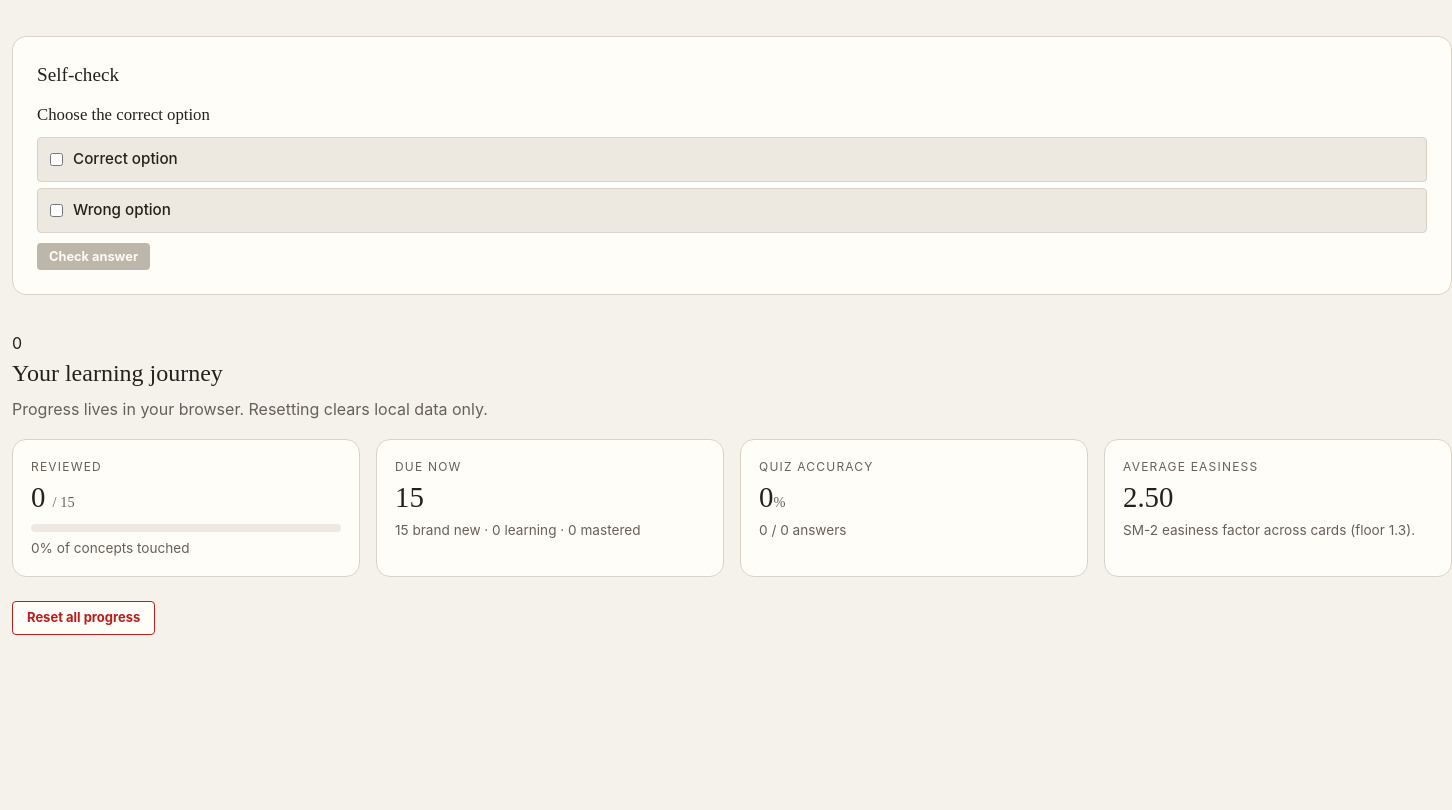
it: keeps session progress and reports a storage failure
Click the checkbox labelled "Correct option". click: (56, 159)
box: [50,153,63,166]
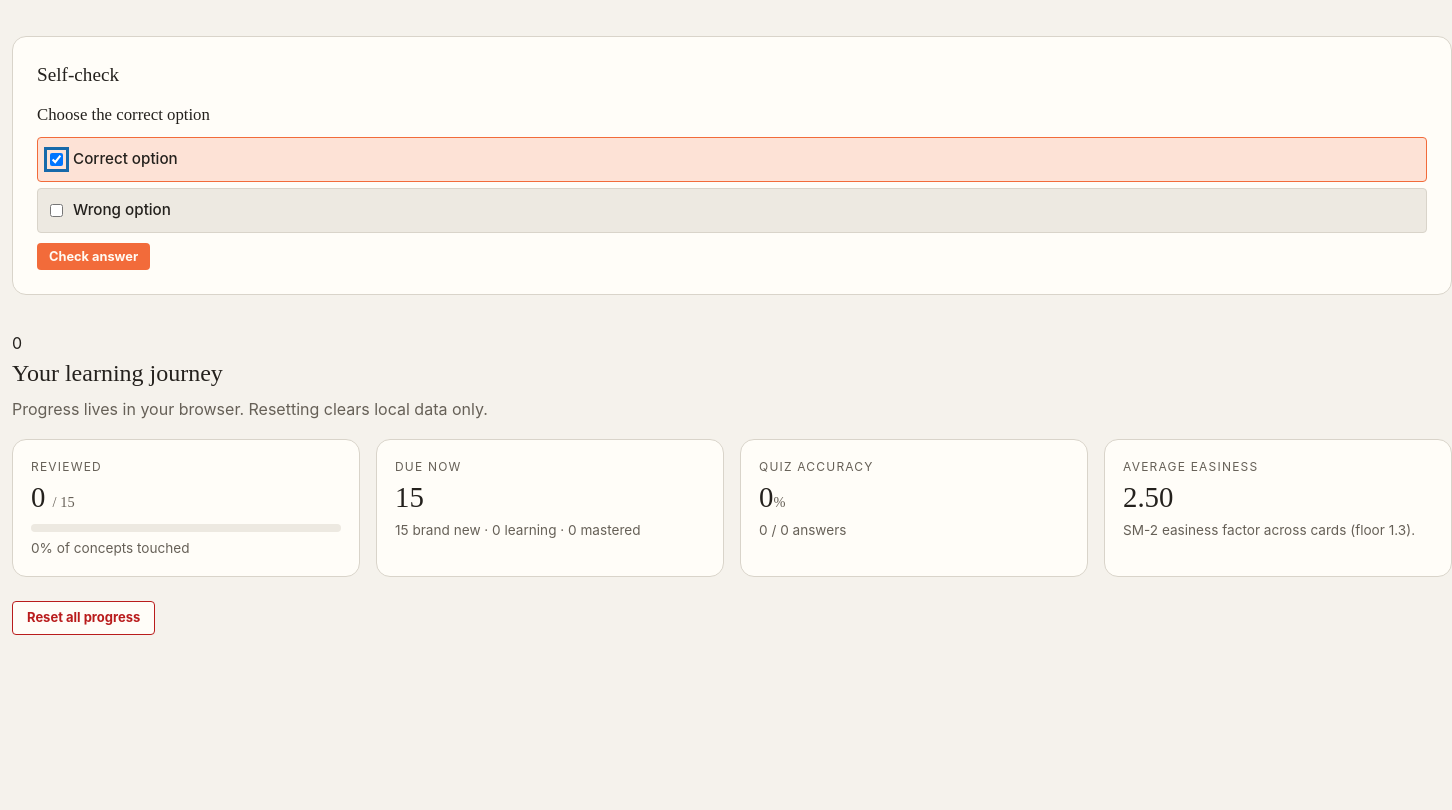
Click the button "Check answer". click: (94, 256)
box: [37,243,150,270]
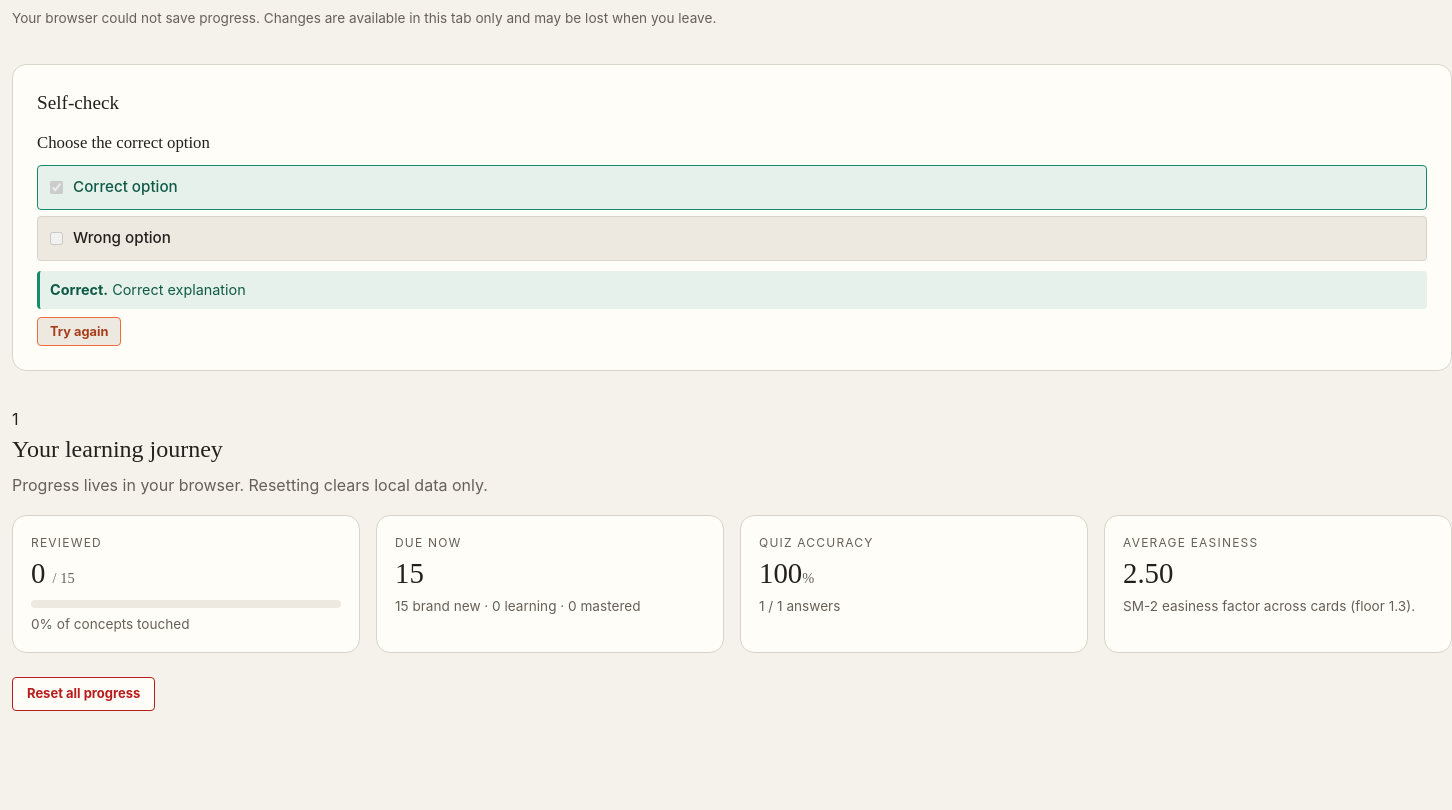
Result: the text named "Quiz attempts" reads "1" at [12,409,18,429]
Result: the text "Your browser could not save progress" is shown at [12,10,716,26]
